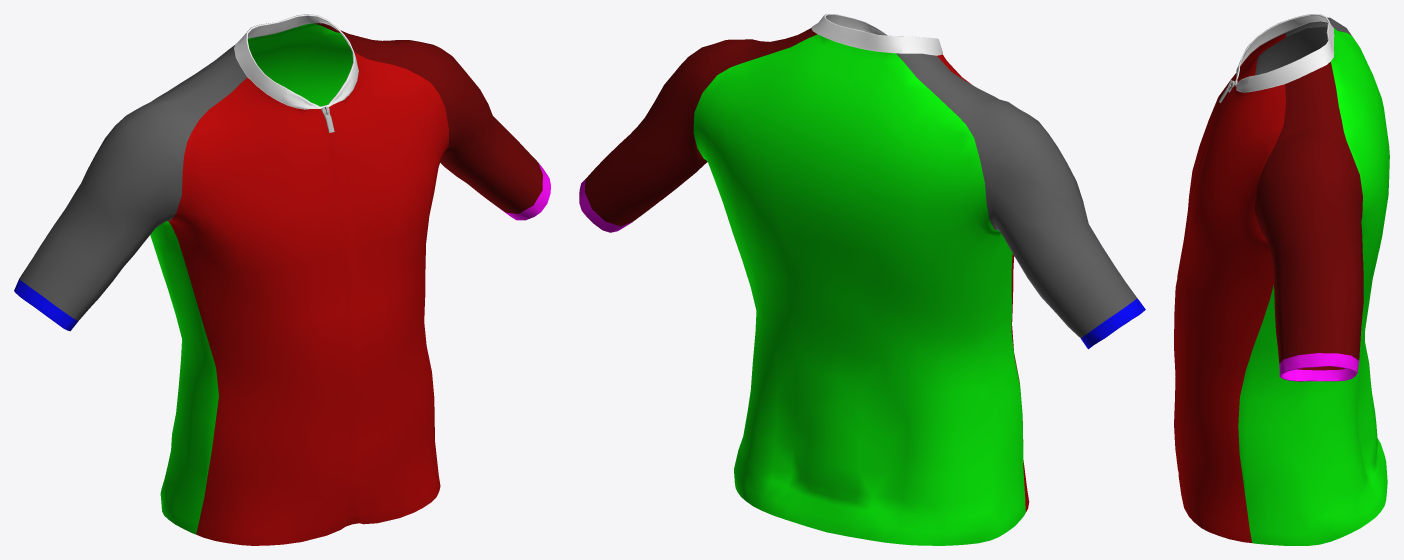
File: jerseyhalf.glb
3 renders of one model, left to right at view 1: azimuth 30°, elevation 25°; view 2: azimuth 150°, elevation 25°; view 3: azimuth 270°, elevation 25°, orthographic. The views are drawn at different scales.
Visible parts, largest first — view 1: JerseyHalf; view 2: JerseyHalf; view 3: JerseyHalf.
Boxes of the visible parts, left/top/right/bottom form: JerseyHalf: left=14, top=14, right=550, bottom=545; JerseyHalf: left=579, top=14, right=1145, bottom=545; JerseyHalf: left=1174, top=14, right=1389, bottom=545.
Bounding box in the file's own units: 0.6593 × 0.5517 × 0.237.
